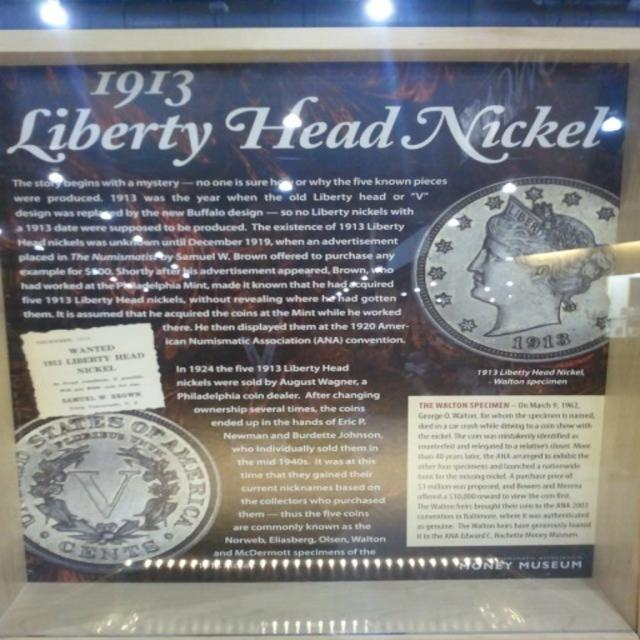Coin: (412, 175, 623, 366), (8, 404, 220, 575)
